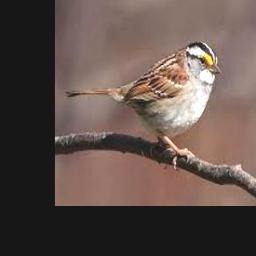Sparrow: (67, 41, 222, 170)
